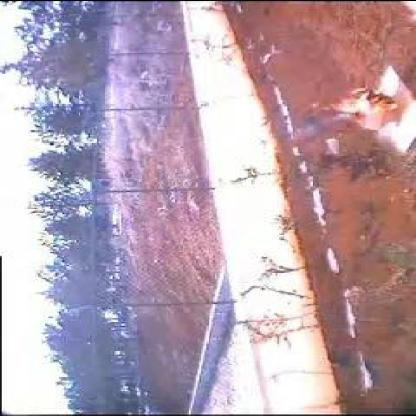foggia-v2-map80-epoch100 - v1 4323: (324, 86, 376, 127)
